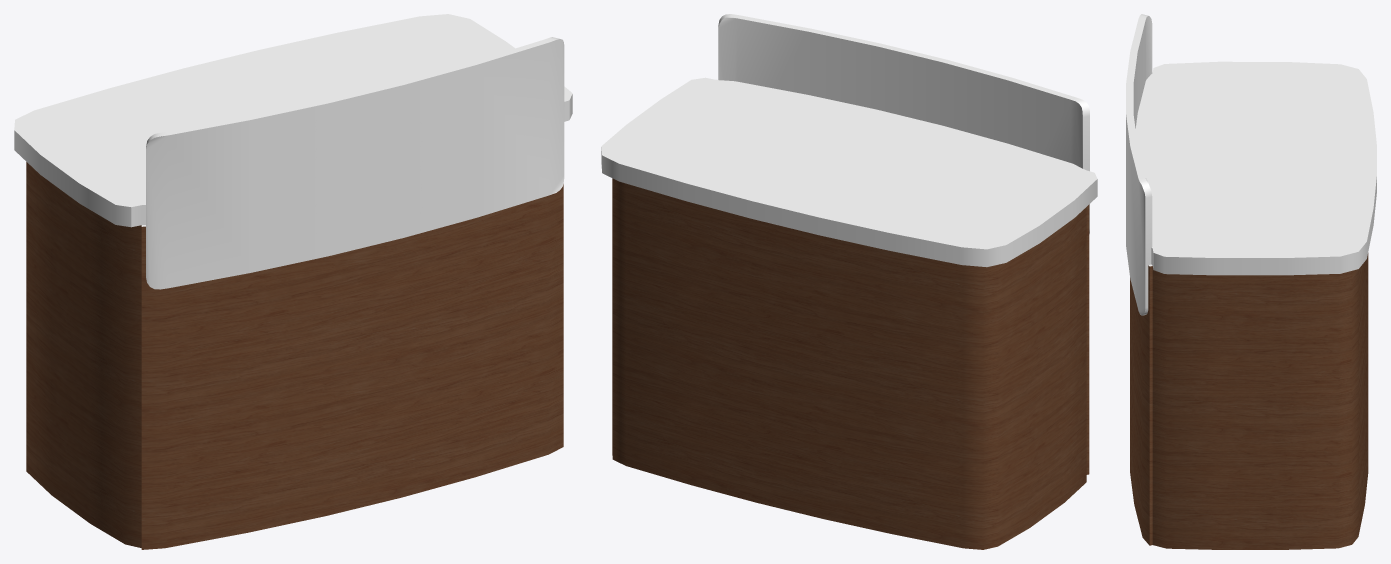
Rendered from ULT2_Counter.FBX.
3 renders of one model, left to right at view 1: azimuth 30°, elevation 25°; view 2: azimuth 150°, elevation 25°; view 3: azimuth 270°, elevation 25°, orthographic. The views are drawn at different scales.
Visible parts, largest first — view 1: ULT2_Counter; view 2: ULT2_Counter; view 3: ULT2_Counter.
Boxes of the visible parts, left/top/right/bottom form: ULT2_Counter: left=14, top=14, right=572, bottom=549; ULT2_Counter: left=601, top=14, right=1097, bottom=549; ULT2_Counter: left=1126, top=14, right=1376, bottom=549.
Bounding box in the file's own units: 1505 × 1280 × 812.
Materials: 2 (1 with a texture image).
